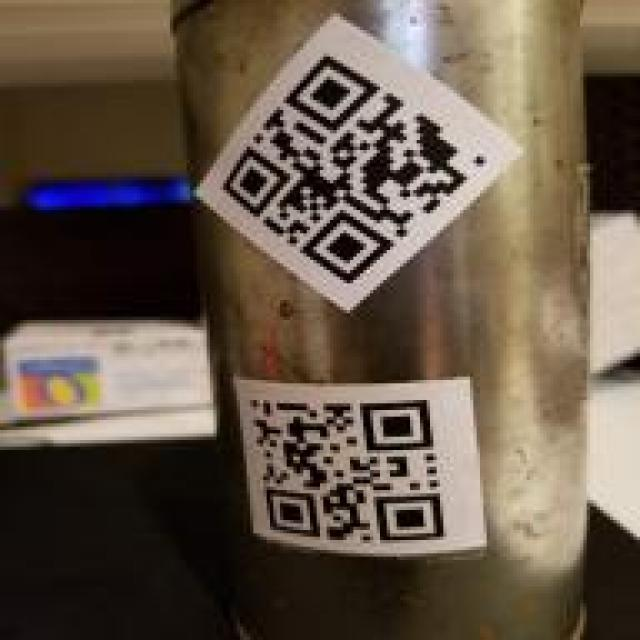QR_CODE: (208, 44, 500, 288), (243, 383, 460, 550)
